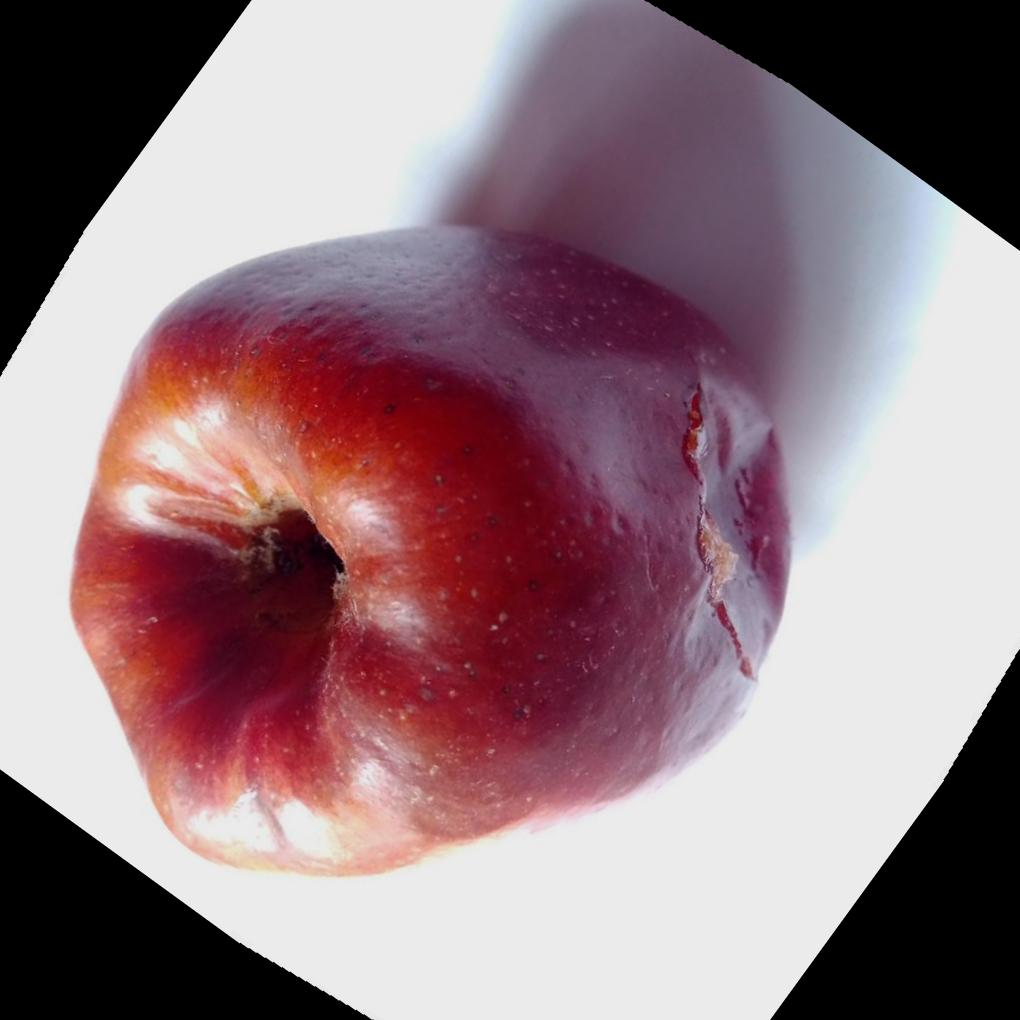FreshOrange: (67, 219, 797, 880)
